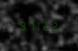nine: (18, 19, 25, 30)
one: (34, 19, 41, 31)
seven: (26, 19, 33, 30)
two: (42, 20, 49, 31), (50, 20, 57, 31)
